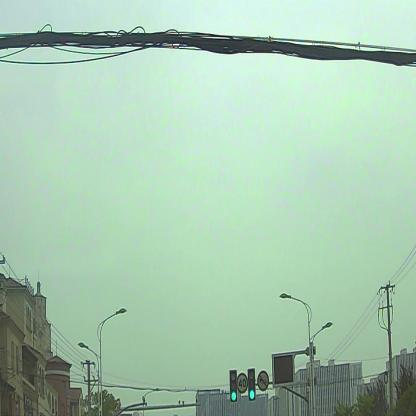Green Light: (230, 367, 238, 403), (249, 368, 256, 401)
